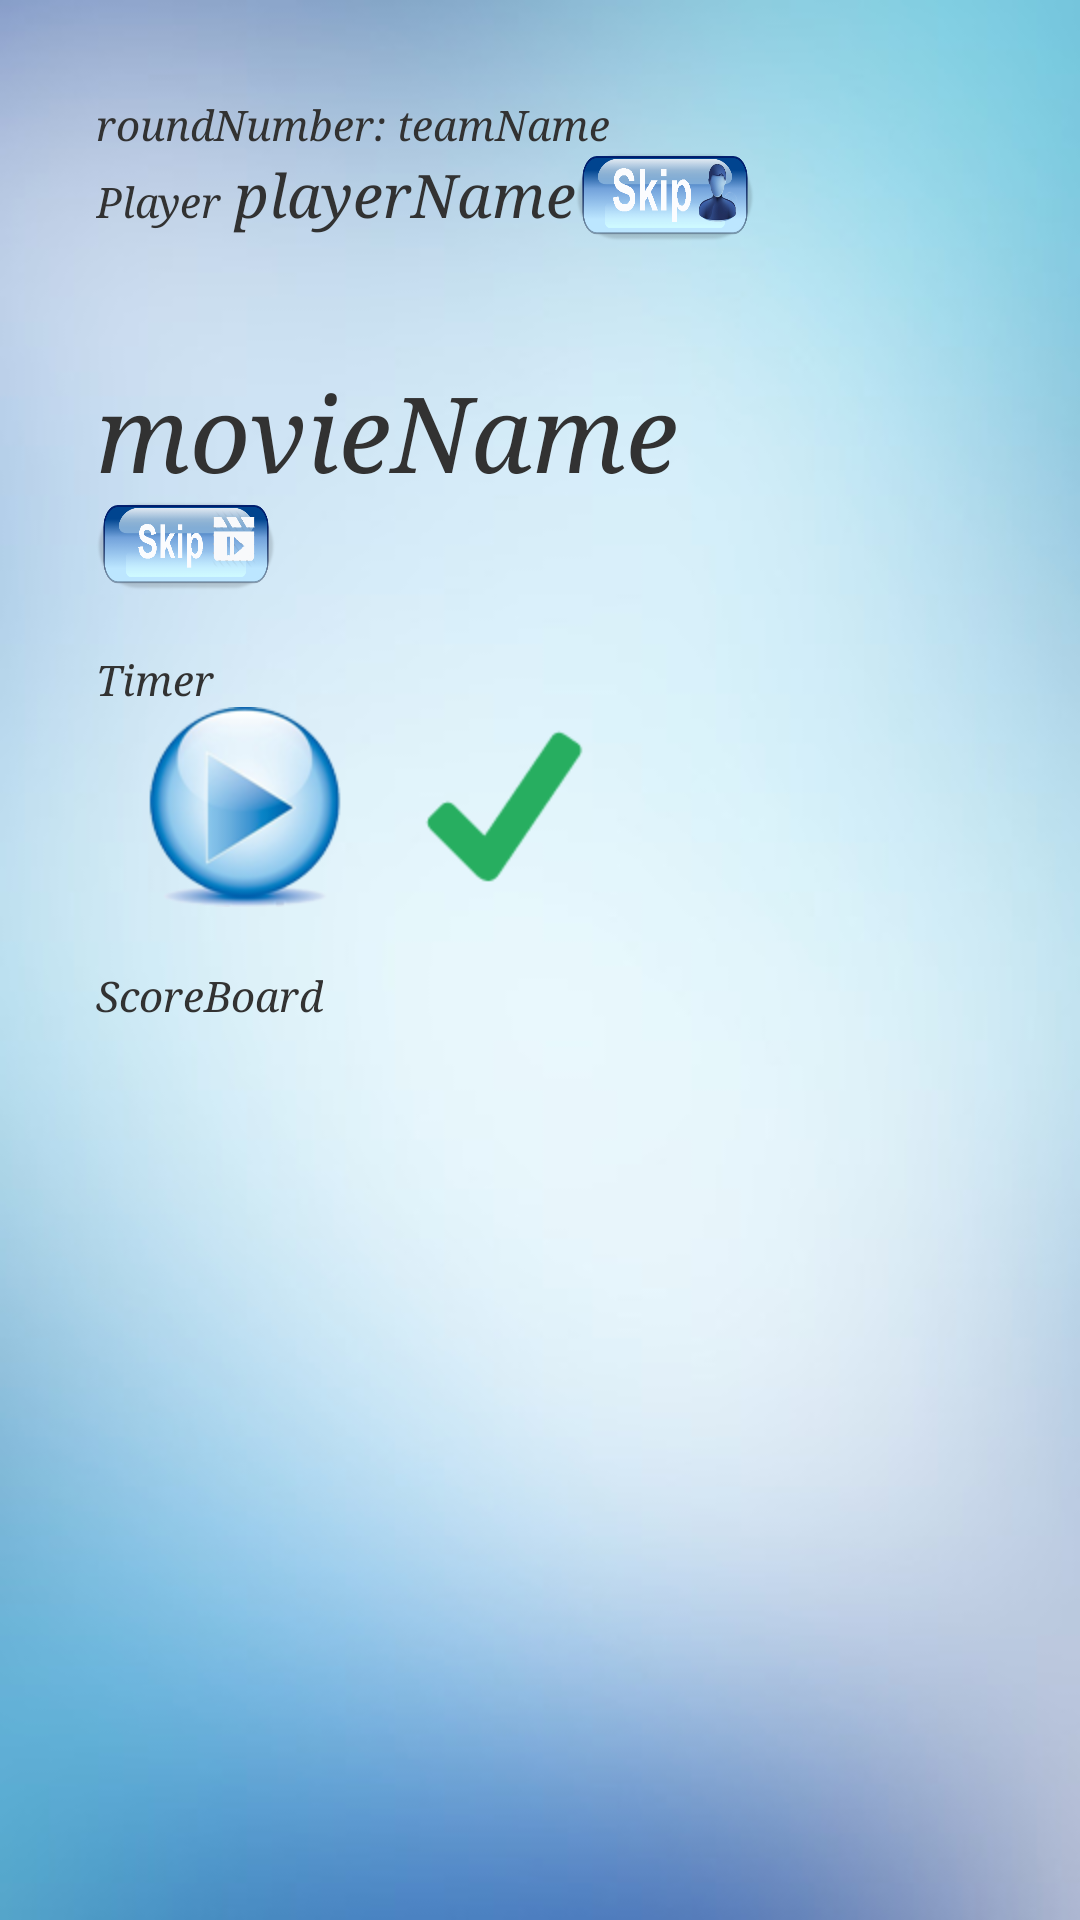

Screen size 1080px x 1920px. Icon name, then its center in pixels as (x,y):
correct: (504,806)
play: (244,806)
